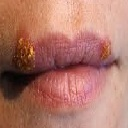Cold Sore: (14, 38, 39, 71), (101, 38, 111, 61)
